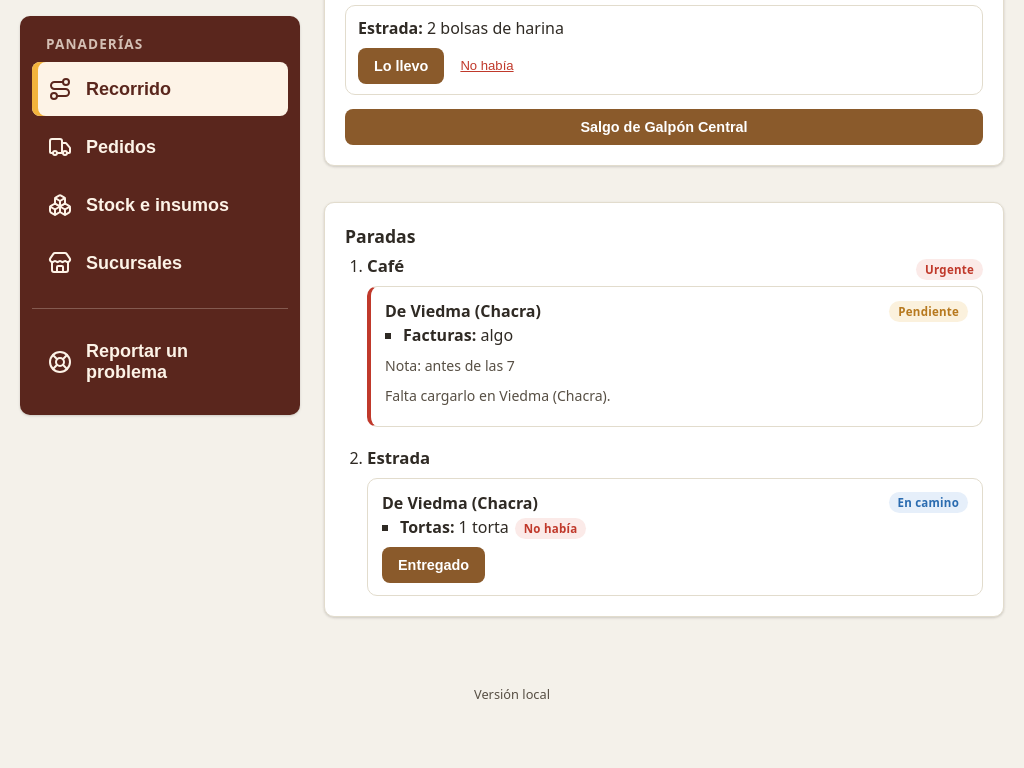
Recorrido del chofer › las paradas muestran urgentes, notas y lo que no había; entrega lo que está en camino
This screenshot has width=1024, height=768.
(page scrolled)
Check: the text "Urgente" is shown, box [916,259,983,280]
Check: the text "Nota: antes de las 7" is shown, box [385,356,515,375]
Click the button "Entregado": (434, 565) [382,547,485,583]
(page scrolled)
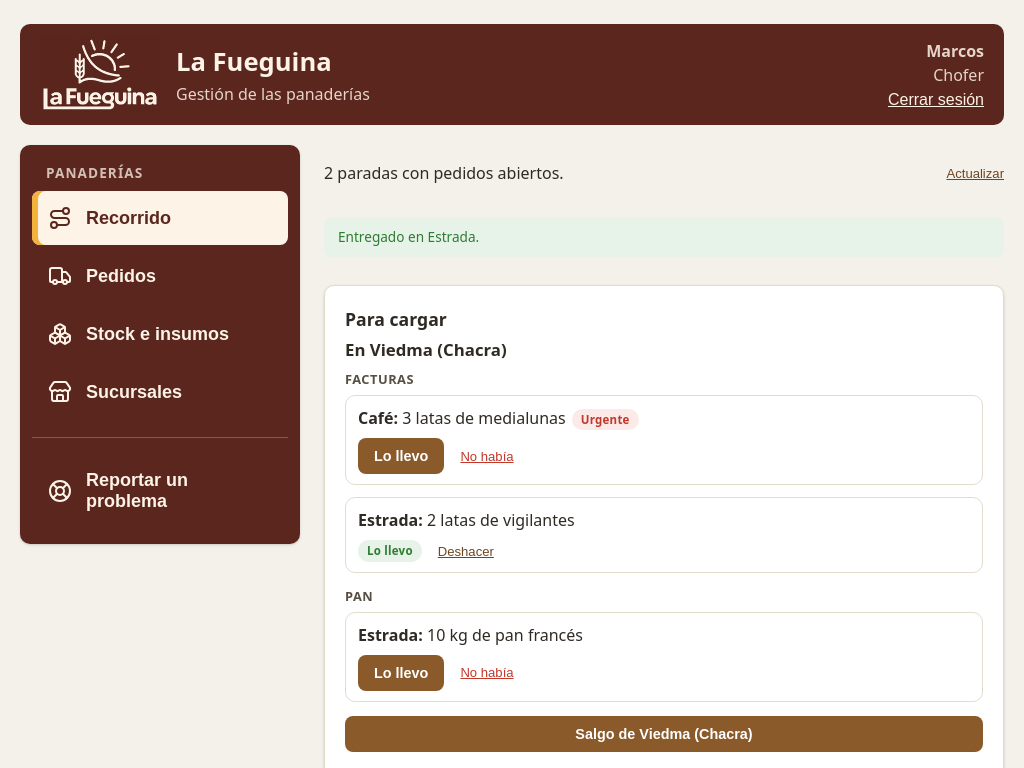
Check: the message reads "Entregado en Estrada.", box [338,227,479,246]
